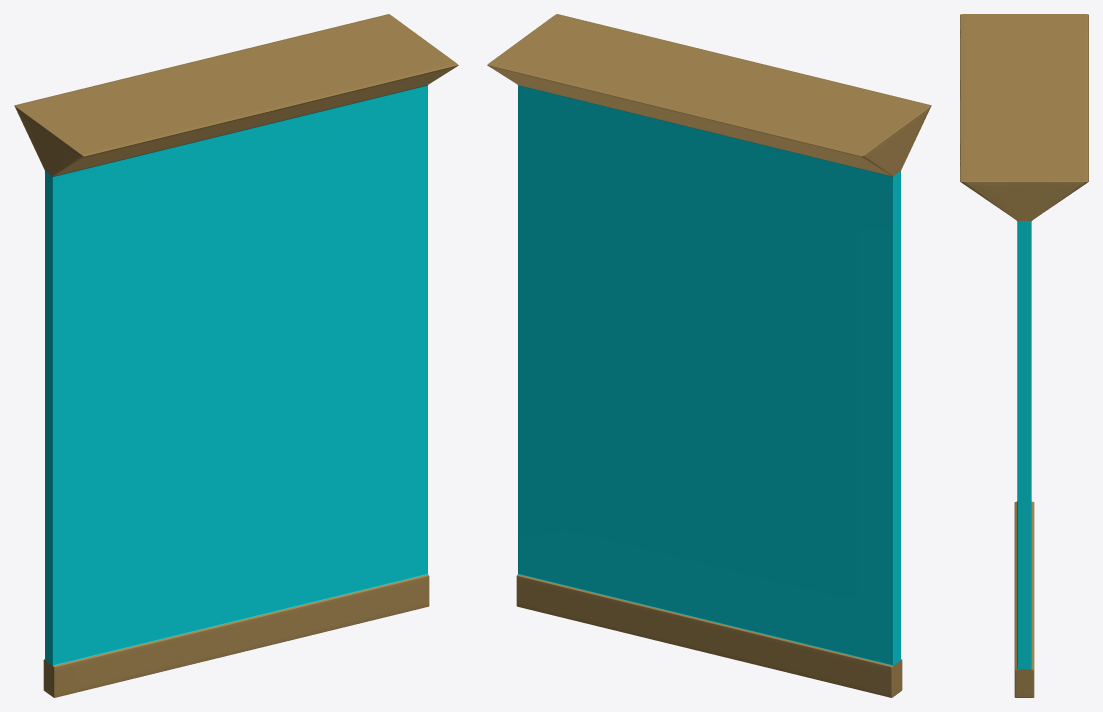
Rendered from Wall.fbx.
The picture shows the model from 3 angles, left to right: view 1: azimuth 30°, elevation 25°; view 2: azimuth 150°, elevation 25°; view 3: azimuth 270°, elevation 25°; orthographic projection. The views are drawn at different scales.
Parts seen in each view (by area): view 1: pPipe1; view 2: pPipe1; view 3: pPipe1.
Boxes of the visible parts, box(x1,y1,x2,y2) form: pPipe1: box(14, 14, 458, 697); pPipe1: box(487, 14, 931, 697); pPipe1: box(960, 14, 1088, 697).
Size of the model in its own units: 200 by 287 by 64.91.
